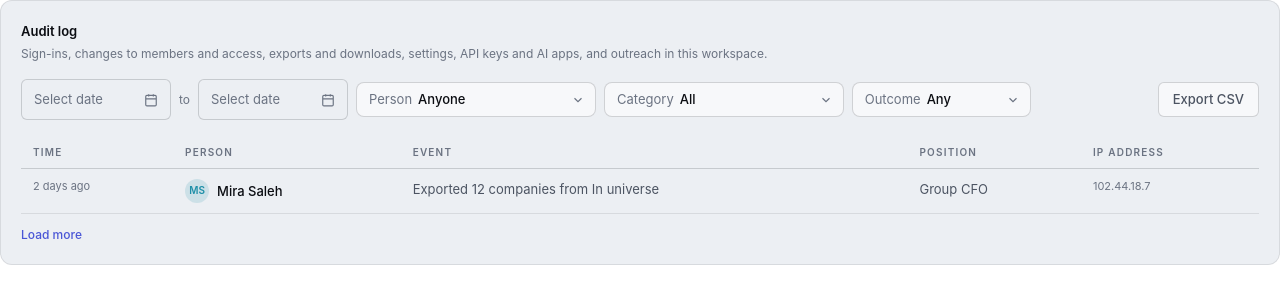
it: AuditLogPanel › loads older lines from the cursor the last page gave
Step 1. Click the button "Load more" → coordinates (52, 235), box [21,226,82,244]
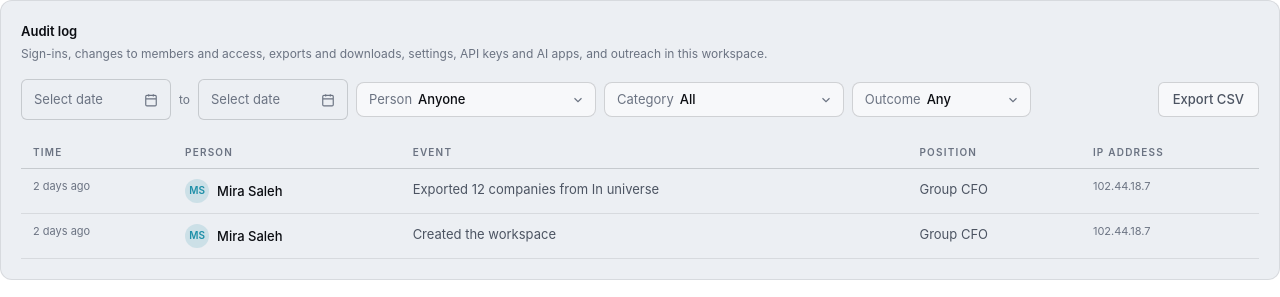
Now the text "Created the workspace" is shown, box [413,226,556,242]
Now the button "Load more" is gone
